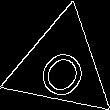O_NE: (29, 33, 93, 99)
